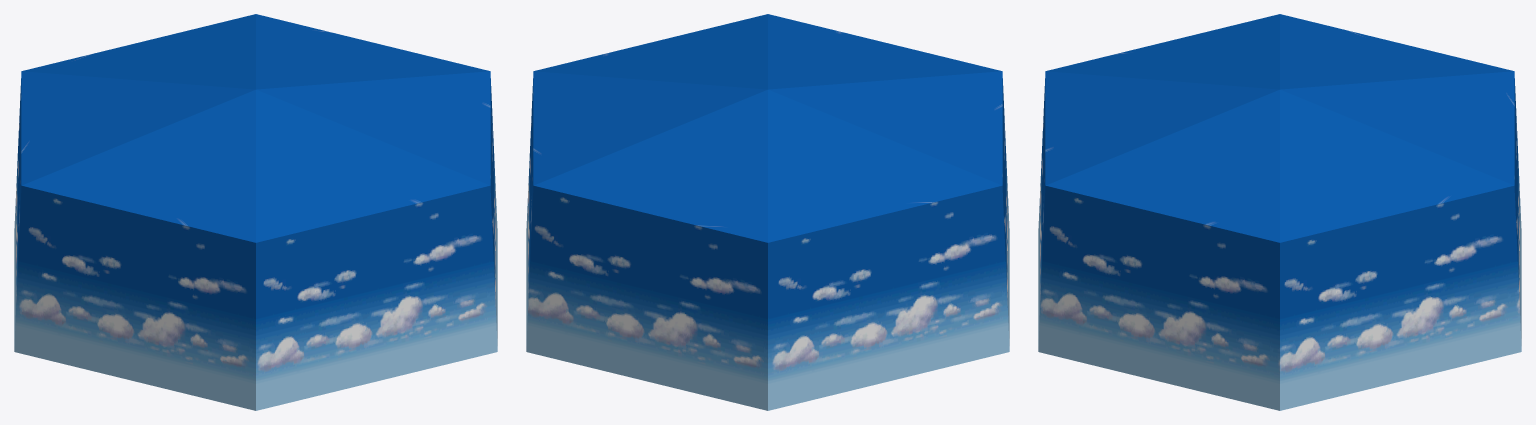
Rendered from nokonoko_course-nokonoko_course.glb.
The picture shows the model from 3 angles, left to right: view 1: azimuth 30°, elevation 25°; view 2: azimuth 150°, elevation 25°; view 3: azimuth 270°, elevation 25°; orthographic projection.
Parts seen in each view (by area): view 1: nokonoko_course; view 2: nokonoko_course; view 3: nokonoko_course.
Part boxes in pixels (x1,y1,x2,y2): nokonoko_course: (14,14,497,410); nokonoko_course: (526,14,1009,410); nokonoko_course: (1038,14,1521,410).
Size of the model in its own units: 1263 by 508 by 1094.
Materials: 12 (12 with a texture image).
